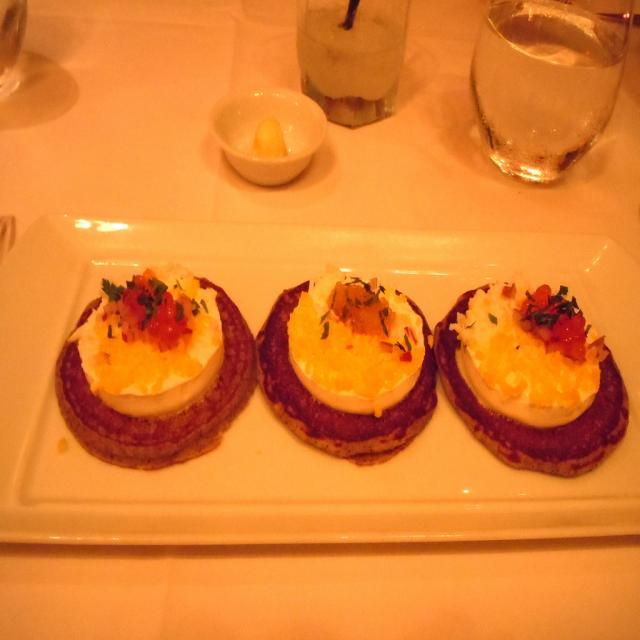Pancake: (438, 278, 633, 479), (58, 274, 257, 468), (258, 271, 438, 466)
